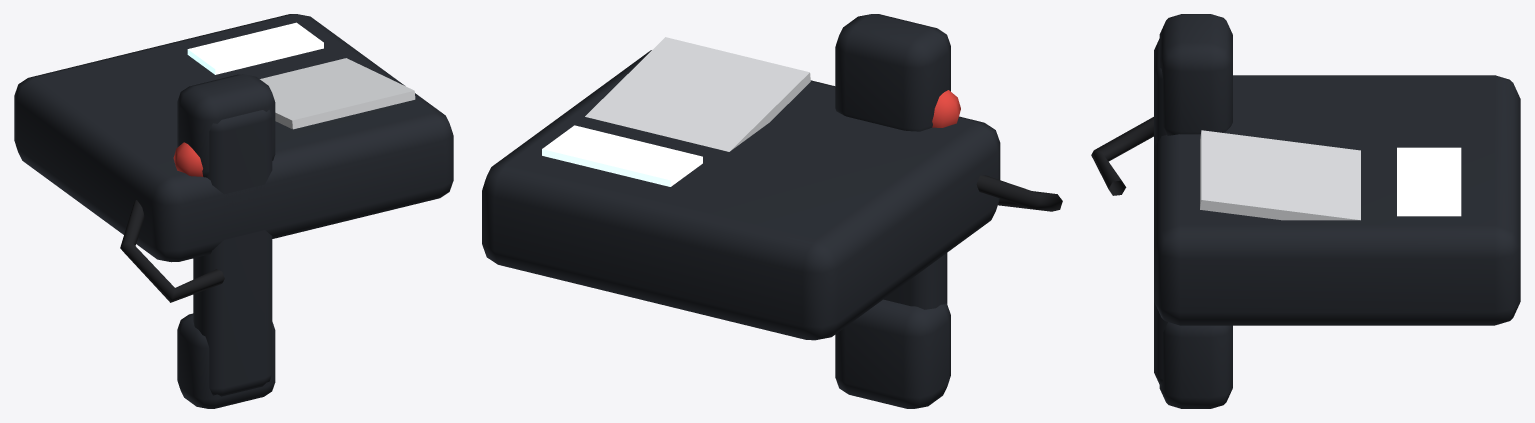
File: DeskPhone.fbx
3 views of the same model, side by side, from view 1: azimuth 30°, elevation 25°; view 2: azimuth 150°, elevation 25°; view 3: azimuth 270°, elevation 25° (orthographic). The views are drawn at different scales.
Visible parts, largest first — view 1: DeskPhoneBody, HandsetBody, RingLight; view 2: DeskPhoneBody, HandsetBody, RingLight; view 3: DeskPhoneBody, HandsetBody.
Part boxes in pixels (x1=…): DeskPhoneBody: x1=14, y1=14, x2=453, y2=302; HandsetBody: x1=177, y1=74, x2=275, y2=408; RingLight: x1=173, y1=142, x2=203, y2=176; DeskPhoneBody: x1=482, y1=37, x2=1062, y2=340; HandsetBody: x1=835, y1=14, x2=950, y2=408; RingLight: x1=932, y1=90, x2=960, y2=127; DeskPhoneBody: x1=1091, y1=75, x2=1520, y2=325; HandsetBody: x1=1154, y1=14, x2=1232, y2=408.
Size of the model in its own units: 0.2448 by 0.22 by 0.2343.
